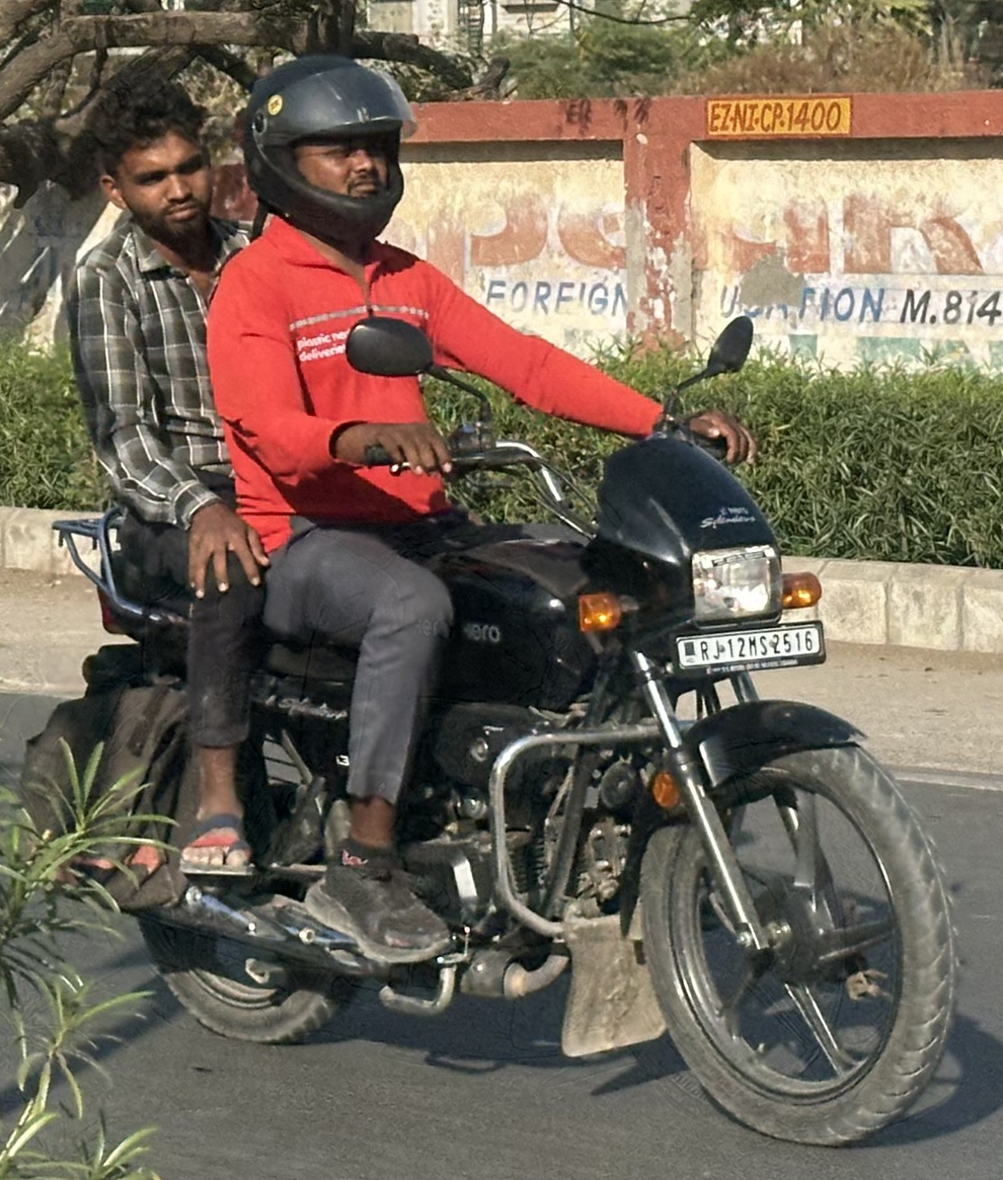BikeWithRider: (11, 38, 976, 1151)
Helmet: (231, 54, 424, 247)
NoHelmet: (82, 71, 229, 245)
